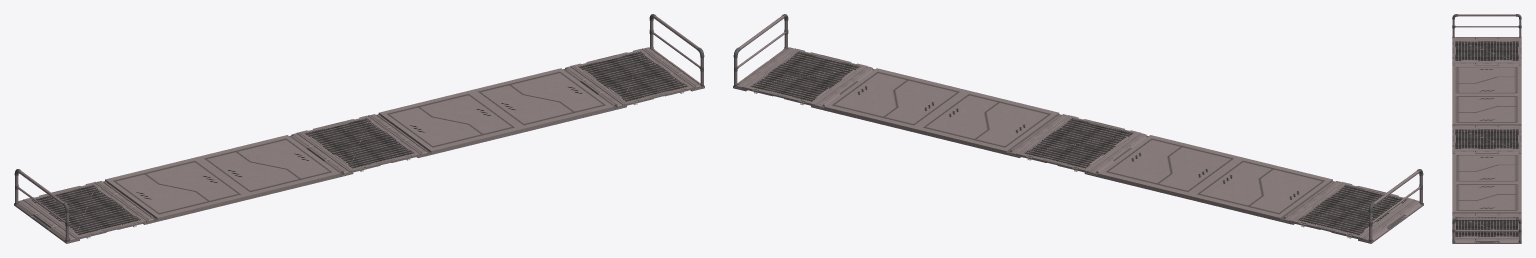
The model's file is Static_Grid_4904.obj.
3 renders of one model, left to right at view 1: azimuth 30°, elevation 25°; view 2: azimuth 150°, elevation 25°; view 3: azimuth 270°, elevation 25°, orthographic. The views are drawn at different scales.
Visible parts, largest first — view 1: Static_Grid_4904_part10, Static_Grid_4904_part9, Static_Grid_4904_part1, Static_Grid_4904_part2; view 2: Static_Grid_4904_part10, Static_Grid_4904_part9, Static_Grid_4904_part1, Static_Grid_4904_part2; view 3: Static_Grid_4904_part10, Static_Grid_4904_part9, Static_Grid_4904_part1, Static_Grid_4904_part2, Static_Grid_4904_part4, Static_Grid_4904_part7.
Part boxes in pixels (box(x1,y1,x2,y2)): Static_Grid_4904_part10: box(105, 68, 613, 221); Static_Grid_4904_part9: box(31, 51, 687, 234); Static_Grid_4904_part1: box(14, 15, 704, 243); Static_Grid_4904_part2: box(14, 14, 704, 242); Static_Grid_4904_part10: box(824, 68, 1332, 221); Static_Grid_4904_part9: box(750, 51, 1406, 234); Static_Grid_4904_part1: box(733, 15, 1423, 243); Static_Grid_4904_part2: box(733, 14, 1423, 242); Static_Grid_4904_part10: box(1452, 65, 1521, 213); Static_Grid_4904_part9: box(1455, 41, 1518, 236); Static_Grid_4904_part1: box(1452, 14, 1521, 243); Static_Grid_4904_part2: box(1452, 14, 1521, 242); Static_Grid_4904_part4: box(1452, 38, 1521, 240); Static_Grid_4904_part7: box(1452, 48, 1521, 151).
Bounding box in the file's own units: 17.5 × 0.9961 × 2.5.
Materials: 10 (10 with a texture image).
